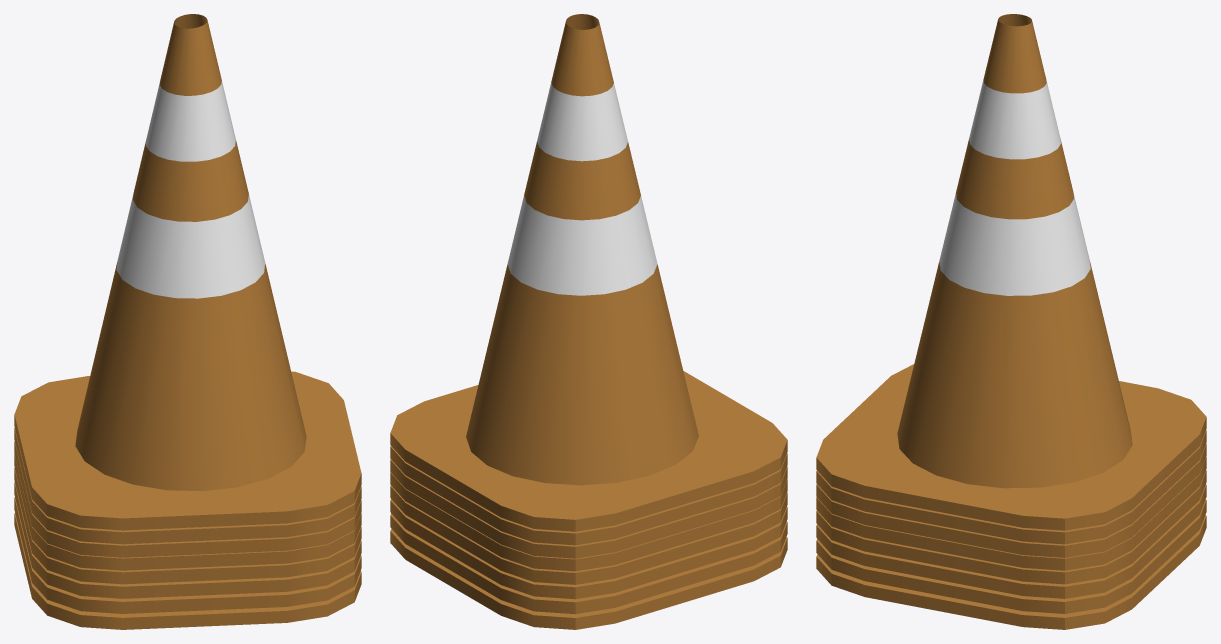
3 views of the same model, side by side, from view 1: azimuth 30°, elevation 25°; view 2: azimuth 150°, elevation 25°; view 3: azimuth 270°, elevation 25° (orthographic).
Visible parts, largest first — view 1: polySurface27_orange_0, polySurface27_white_0; view 2: polySurface27_orange_0, polySurface27_white_0; view 3: polySurface27_orange_0, polySurface27_white_0.
Part boxes in pixels (bbox=[...]): polySurface27_orange_0: bbox=[14, 14, 361, 629]; polySurface27_white_0: bbox=[116, 80, 265, 298]; polySurface27_orange_0: bbox=[390, 14, 787, 629]; polySurface27_white_0: bbox=[507, 82, 657, 295]; polySurface27_orange_0: bbox=[816, 14, 1206, 629]; polySurface27_white_0: bbox=[939, 79, 1090, 295].
Size of the model in its own units: 0.4707 by 0.7149 by 0.4755.
